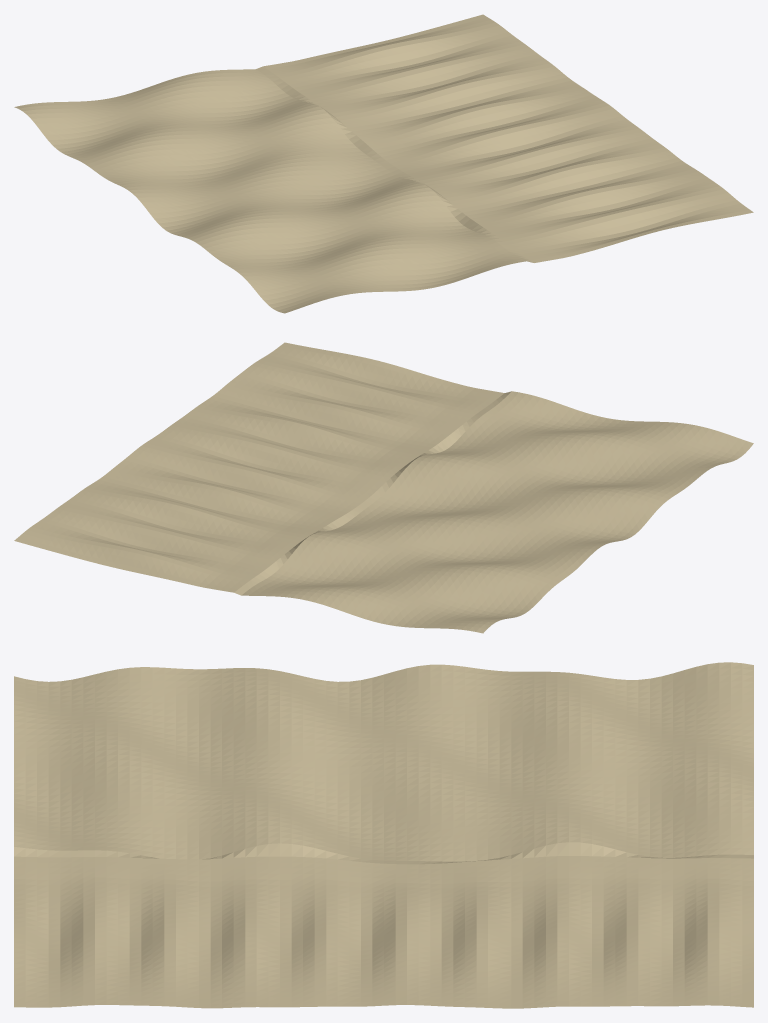
Rendered from SM_DriftwoodTerrain_Alpha_Collision.gltf.
3 renders of one model, top to bottom at view 1: azimuth 30°, elevation 25°; view 2: azimuth 150°, elevation 25°; view 3: azimuth 270°, elevation 25°, orthographic. The views are drawn at different scales.
Visible parts, largest first — view 1: SM_DriftwoodTerrain_Alpha; view 2: SM_DriftwoodTerrain_Alpha; view 3: SM_DriftwoodTerrain_Alpha.
Boxes of the visible parts, bbox=[...] form: SM_DriftwoodTerrain_Alpha: bbox=[14, 14, 753, 313]; SM_DriftwoodTerrain_Alpha: bbox=[14, 342, 753, 633]; SM_DriftwoodTerrain_Alpha: bbox=[14, 662, 753, 1008].
Bounding box in the file's own units: 100 × 5.96 × 100.
